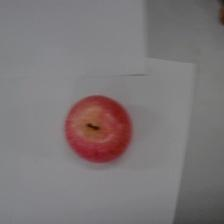red: (63, 93, 134, 164)
